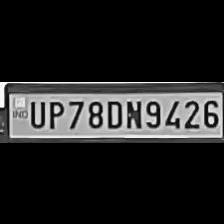2: (181, 96, 199, 128)
4: (163, 96, 181, 128)
6: (201, 96, 219, 128)
7: (64, 97, 84, 129)
8: (84, 97, 104, 128)
9: (142, 96, 160, 128)
D: (104, 96, 122, 128)
N: (123, 97, 141, 128)
P: (44, 97, 64, 128)
U: (25, 97, 45, 127)
